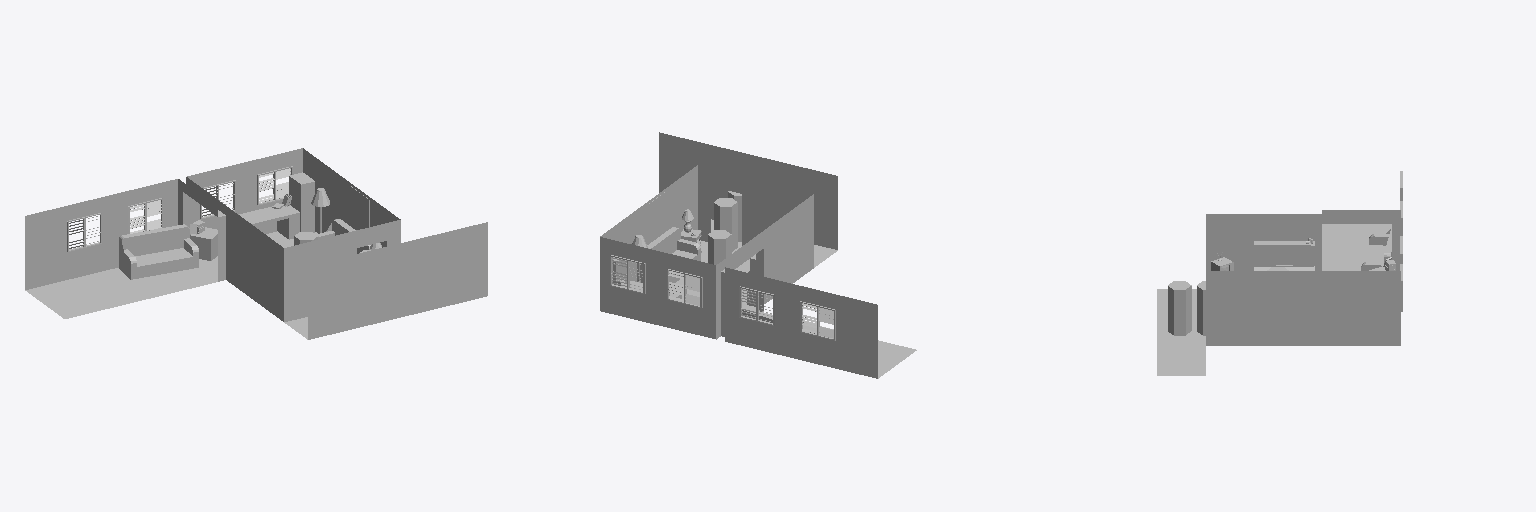
Rendered from the_room.obj.
The picture shows the model from 3 angles: view 1: azimuth 30°, elevation 25°; view 2: azimuth 150°, elevation 25°; view 3: azimuth 270°, elevation 25°; orthographic projection.
Parts seen in each view (by area): view 1: room_Plane, sofa.001_Cube.003, desk_Cube, filecabinet_tall_Cube.004, window.002_Cube.006, window.001_Cube.006, poster_alyx_Cube.008, crate_Cube.009, window.003_Cube.006; view 2: room_Plane, sofa_Cube.003, window_Cube.006, window.003_Cube.006, player_analogue.004_Cylinder, poster_alyx_Cube.008, player_analogue_Cylinder, window.001_Cube.006, window.002_Cube.006; view 3: room_Plane, piano_Cube.005, player_analogue.005_Cylinder, sofa.001_Cube.003.
Boxes of the visible parts, box(x1,y1,x2,y2) form: room_Plane: box(25, 148, 487, 339); sofa.001_Cube.003: box(119, 224, 198, 279); desk_Cube: box(239, 205, 299, 239); filecabinet_tall_Cube.004: box(289, 172, 314, 232); window.002_Cube.006: box(128, 198, 163, 233); window.001_Cube.006: box(257, 166, 292, 205); poster_alyx_Cube.008: box(349, 185, 369, 229); crate_Cube.009: box(190, 227, 217, 260); window.003_Cube.006: box(67, 213, 102, 251); room_Plane: box(600, 132, 916, 378); sofa_Cube.003: box(637, 227, 700, 282); window_Cube.006: box(667, 269, 702, 307); window.003_Cube.006: box(800, 301, 835, 340); player_analogue.004_Cylinder: box(714, 198, 737, 251); poster_alyx_Cube.008: box(646, 191, 666, 242); player_analogue_Cylinder: box(708, 230, 731, 264); window.001_Cube.006: box(610, 255, 645, 293); window.002_Cube.006: box(739, 286, 774, 325); room_Plane: box(1157, 210, 1400, 375); piano_Cube.005: box(1254, 241, 1314, 270); player_analogue.005_Cylinder: box(1168, 281, 1191, 335); sofa.001_Cube.003: box(1361, 227, 1391, 270).
Bounding box in the file's own units: 32.79 × 6.86 × 20.43.